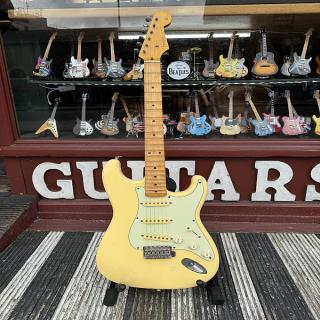Fender Stratocaster: (90, 9, 228, 295)
SSS: (138, 197, 181, 250)
